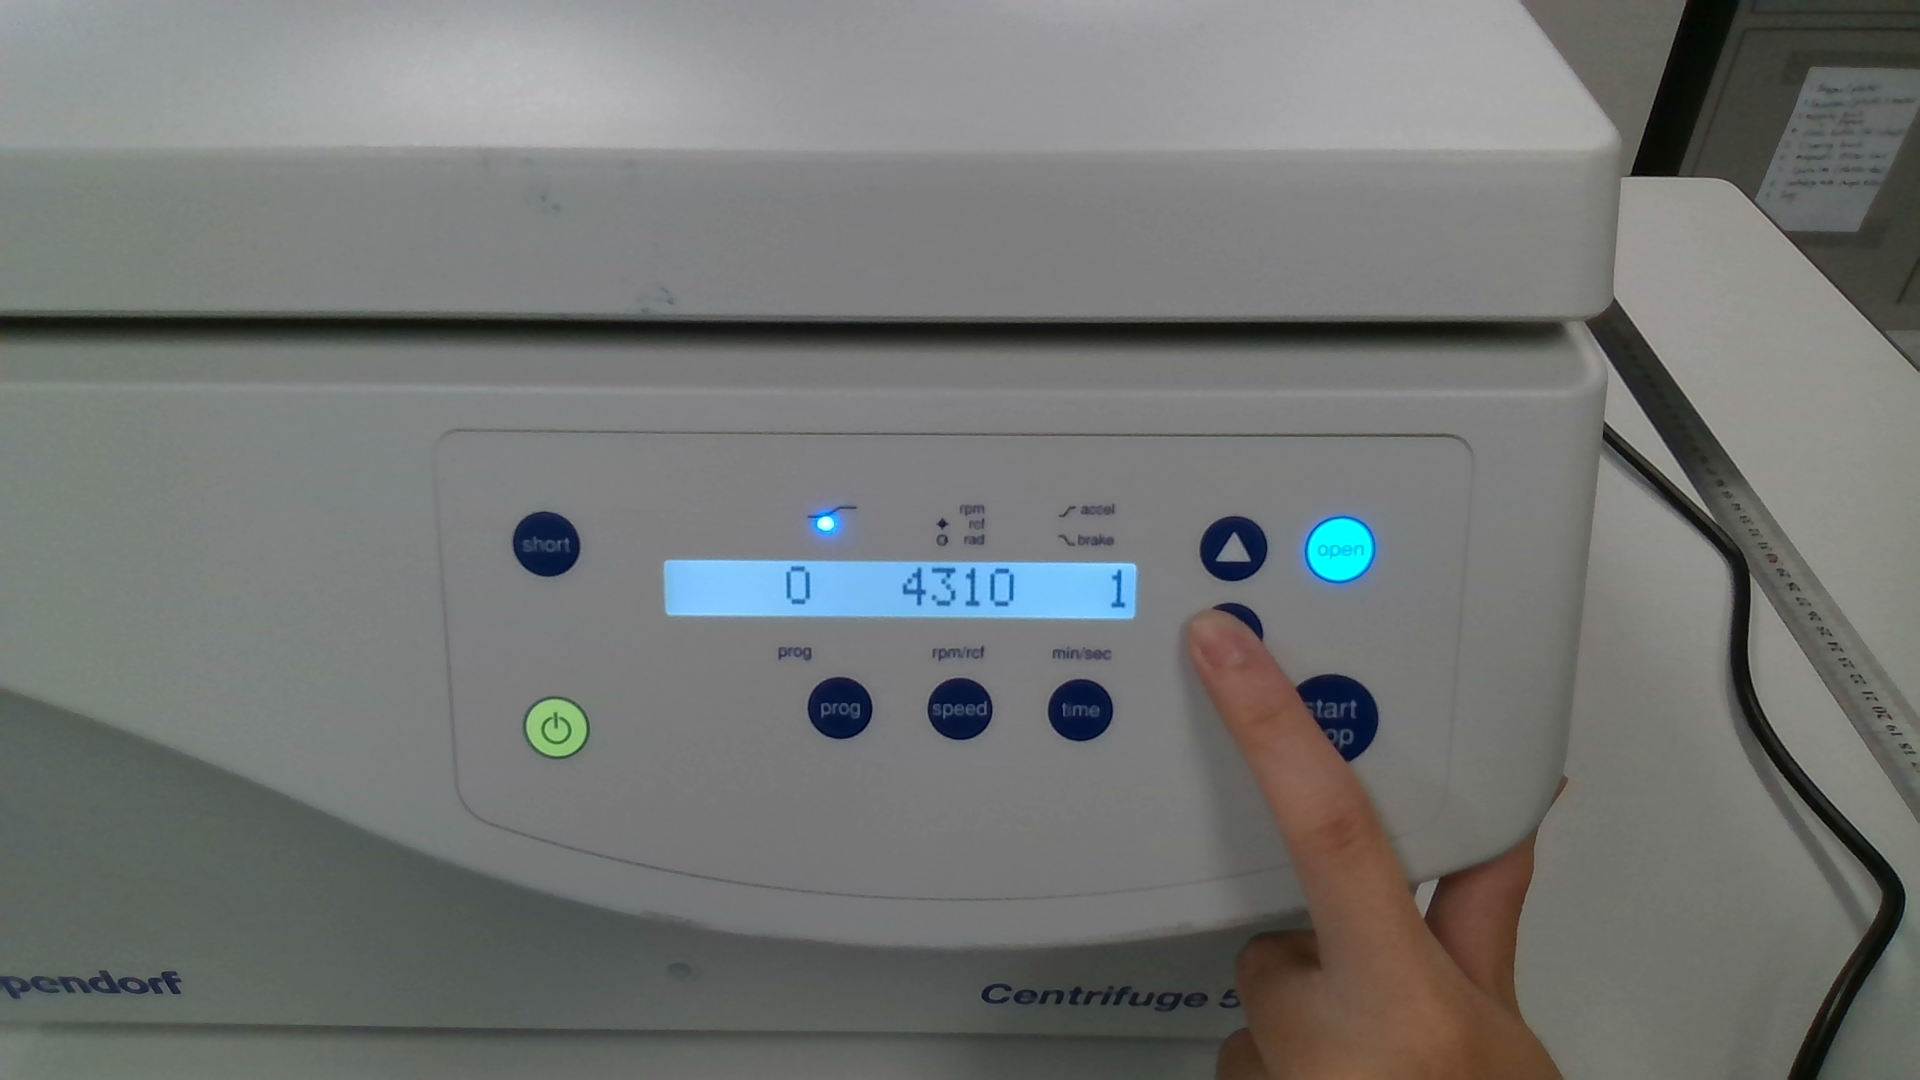0: (786, 566, 811, 605), (989, 568, 1014, 607)
1: (1106, 568, 1131, 608), (960, 568, 985, 607)
3: (931, 567, 956, 607)
4: (902, 567, 927, 607)
open_on: (1304, 516, 1375, 584)
power_on: (522, 696, 589, 760)
